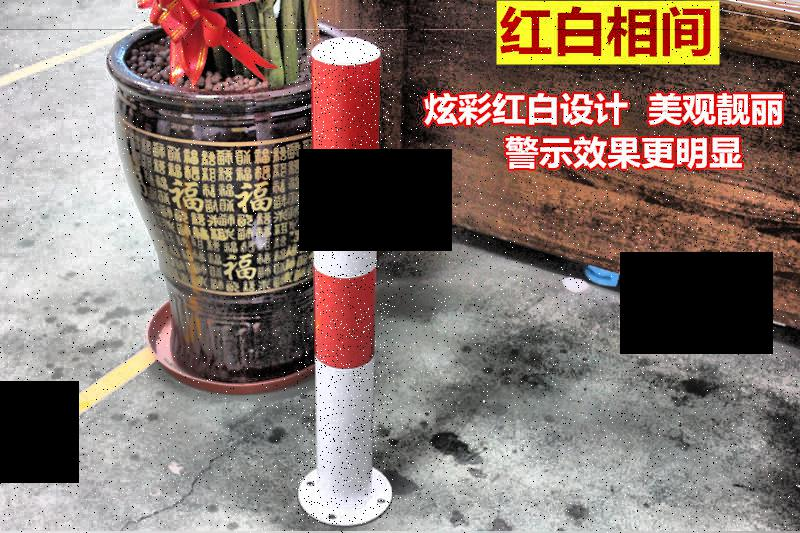bench: (297, 29, 394, 525)
